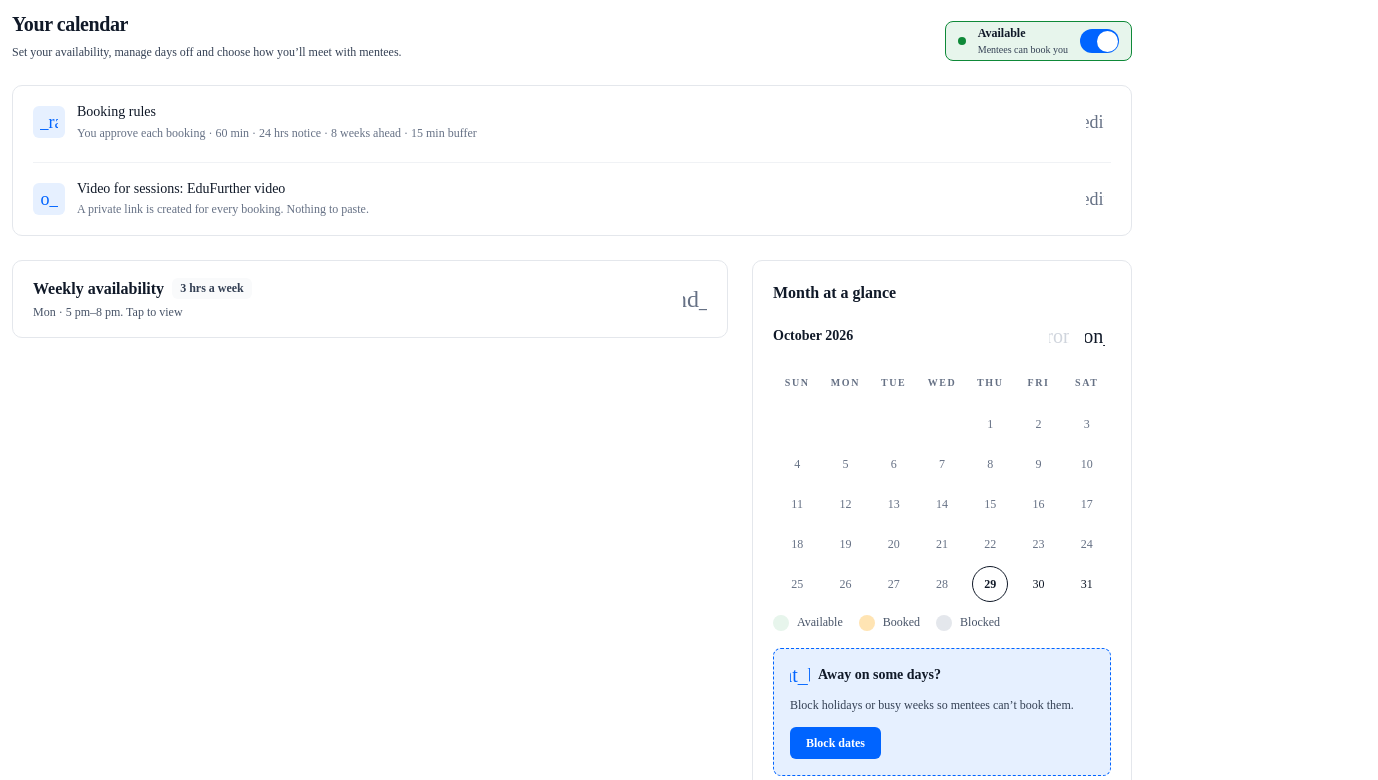
Test: CalendarScreen: weekly availability on a phone (mobileCollapse=on) › starts closed with the summary and the weekly total, and opens on a tap
Click the button "Weekly availability" at x=99, y=288, box x1=13 y1=261 x2=727 y2=337
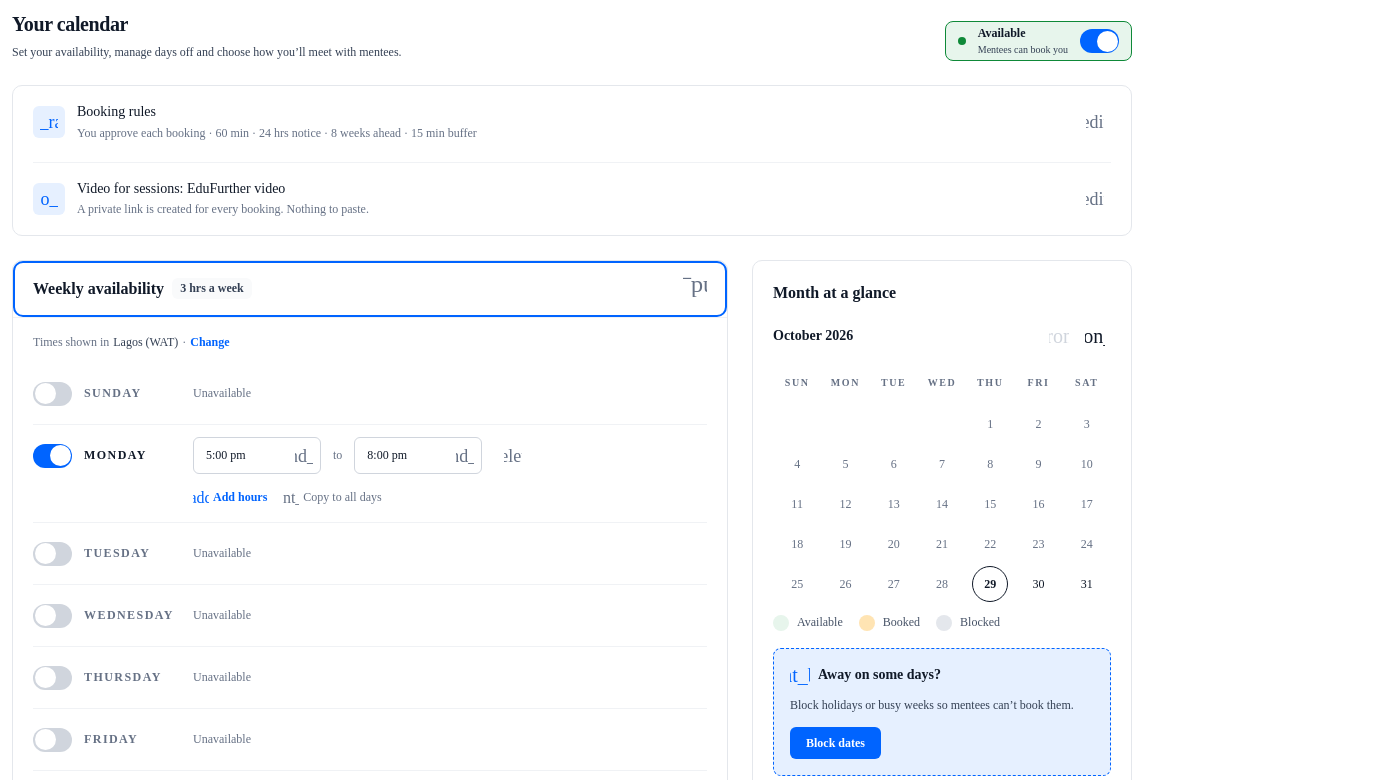
Expected: the button "Weekly availability" is expanded, x1=13 y1=261 x2=727 y2=317
Expected: the switch named "Tuesday" next to "Tuesday" is shown, x1=33 y1=542 x2=72 y2=566
